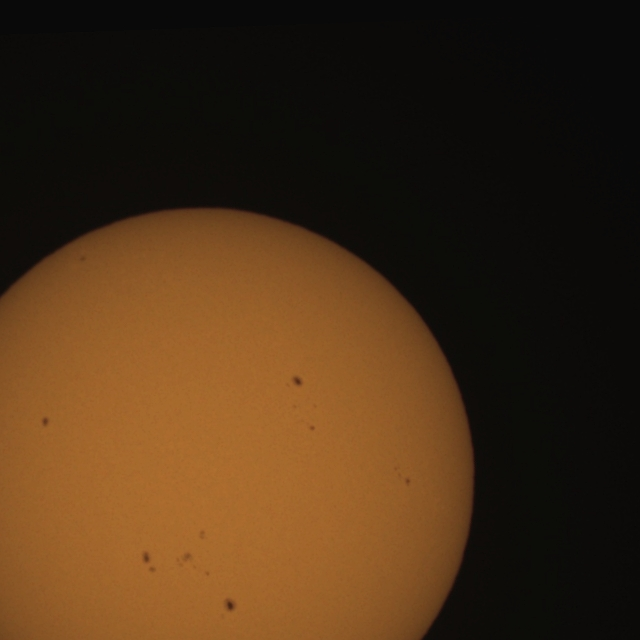sunspot: (175, 552, 210, 577), (393, 465, 412, 487), (141, 550, 157, 574), (175, 552, 196, 570), (285, 374, 304, 389), (223, 597, 238, 614), (40, 416, 50, 428), (198, 528, 207, 540), (308, 424, 316, 432), (204, 570, 210, 577)
